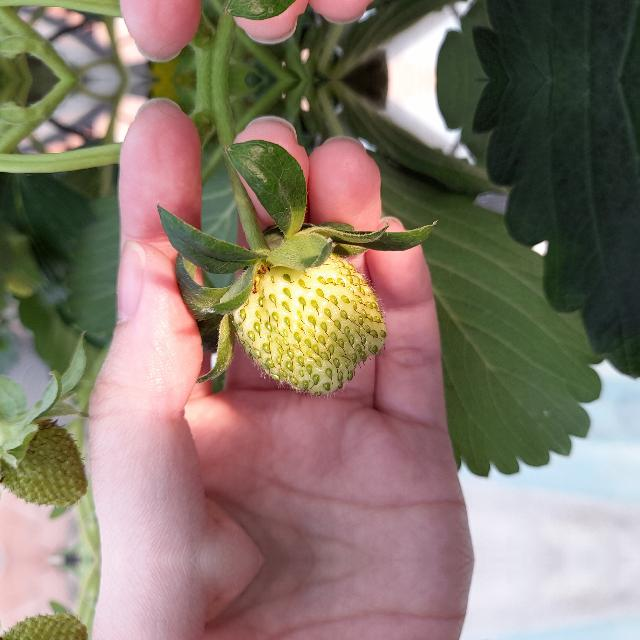Health_25: (230, 250, 386, 398), (0, 419, 90, 507), (0, 613, 90, 640)
